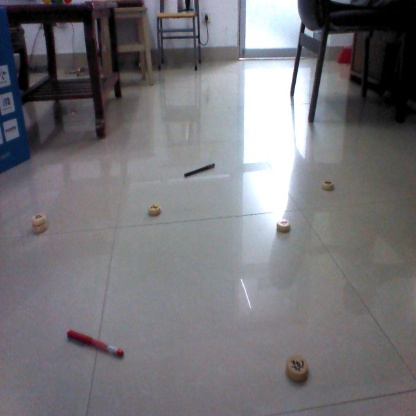chess: (285, 350, 314, 381), (26, 213, 51, 234), (275, 215, 294, 232), (146, 202, 163, 221), (319, 177, 337, 193)
pen: (65, 329, 126, 357), (184, 162, 219, 179)
